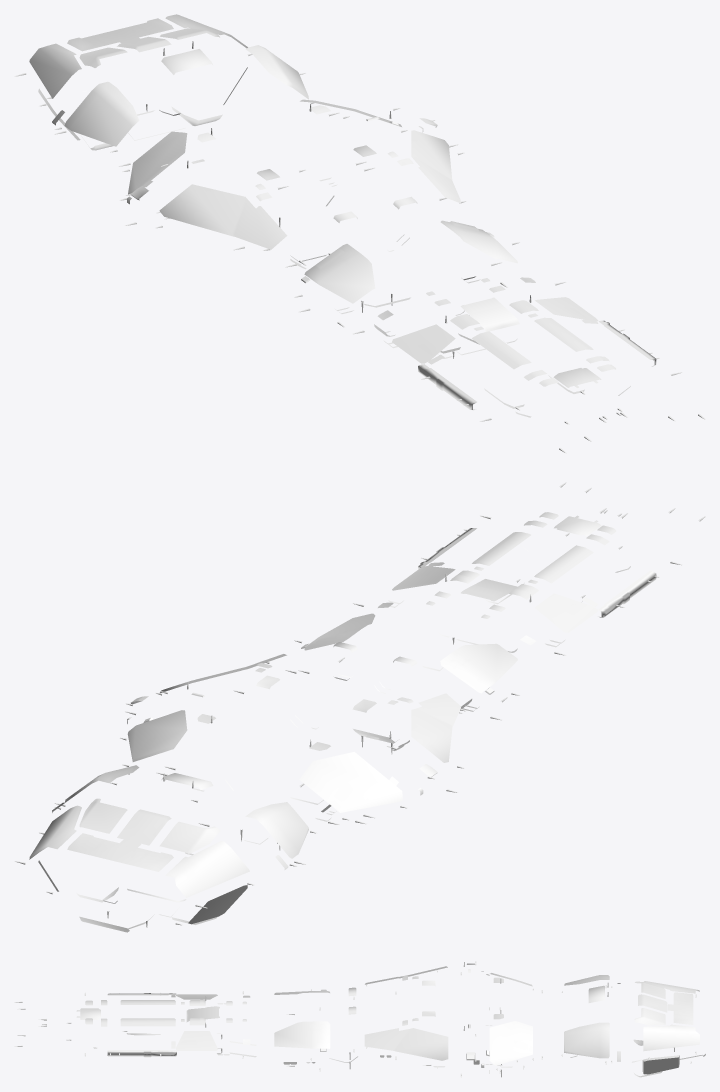
The model's file is hgn_flagship_battlecruiser_04.glb.
3 renders of one model, top to bottom at view 1: azimuth 30°, elevation 25°; view 2: azimuth 150°, elevation 25°; view 3: azimuth 270°, elevation 25°, orthographic. The views are drawn at different scales.
Parts seen in each view (by area): view 1: hgn_fs_batt_03_LOD0; view 2: hgn_fs_batt_03_LOD0; view 3: hgn_fs_batt_03_LOD0.
Part boxes in pixels (left/top/right/bottom): hgn_fs_batt_03_LOD0: left=14, top=14, right=705, bottom=453; hgn_fs_batt_03_LOD0: left=14, top=482, right=705, bottom=932; hgn_fs_batt_03_LOD0: left=14, top=961, right=705, bottom=1077.
Size of what is drawn, in the model's own units: 7.42 by 2.75 by 20.54.
Materials: 1 (1 with a texture image).
